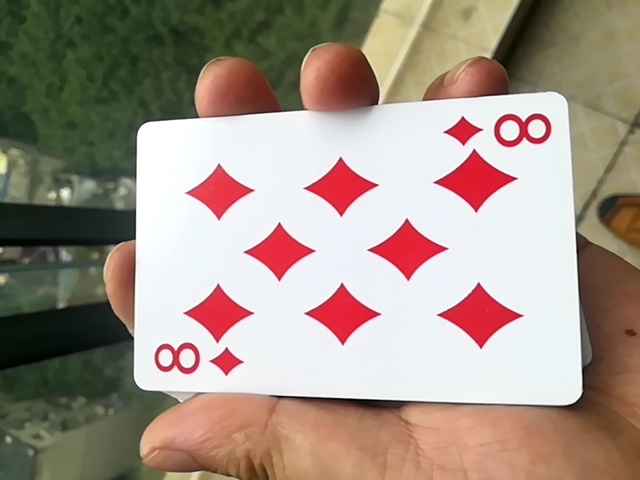fk 8: (115, 109, 577, 428)
